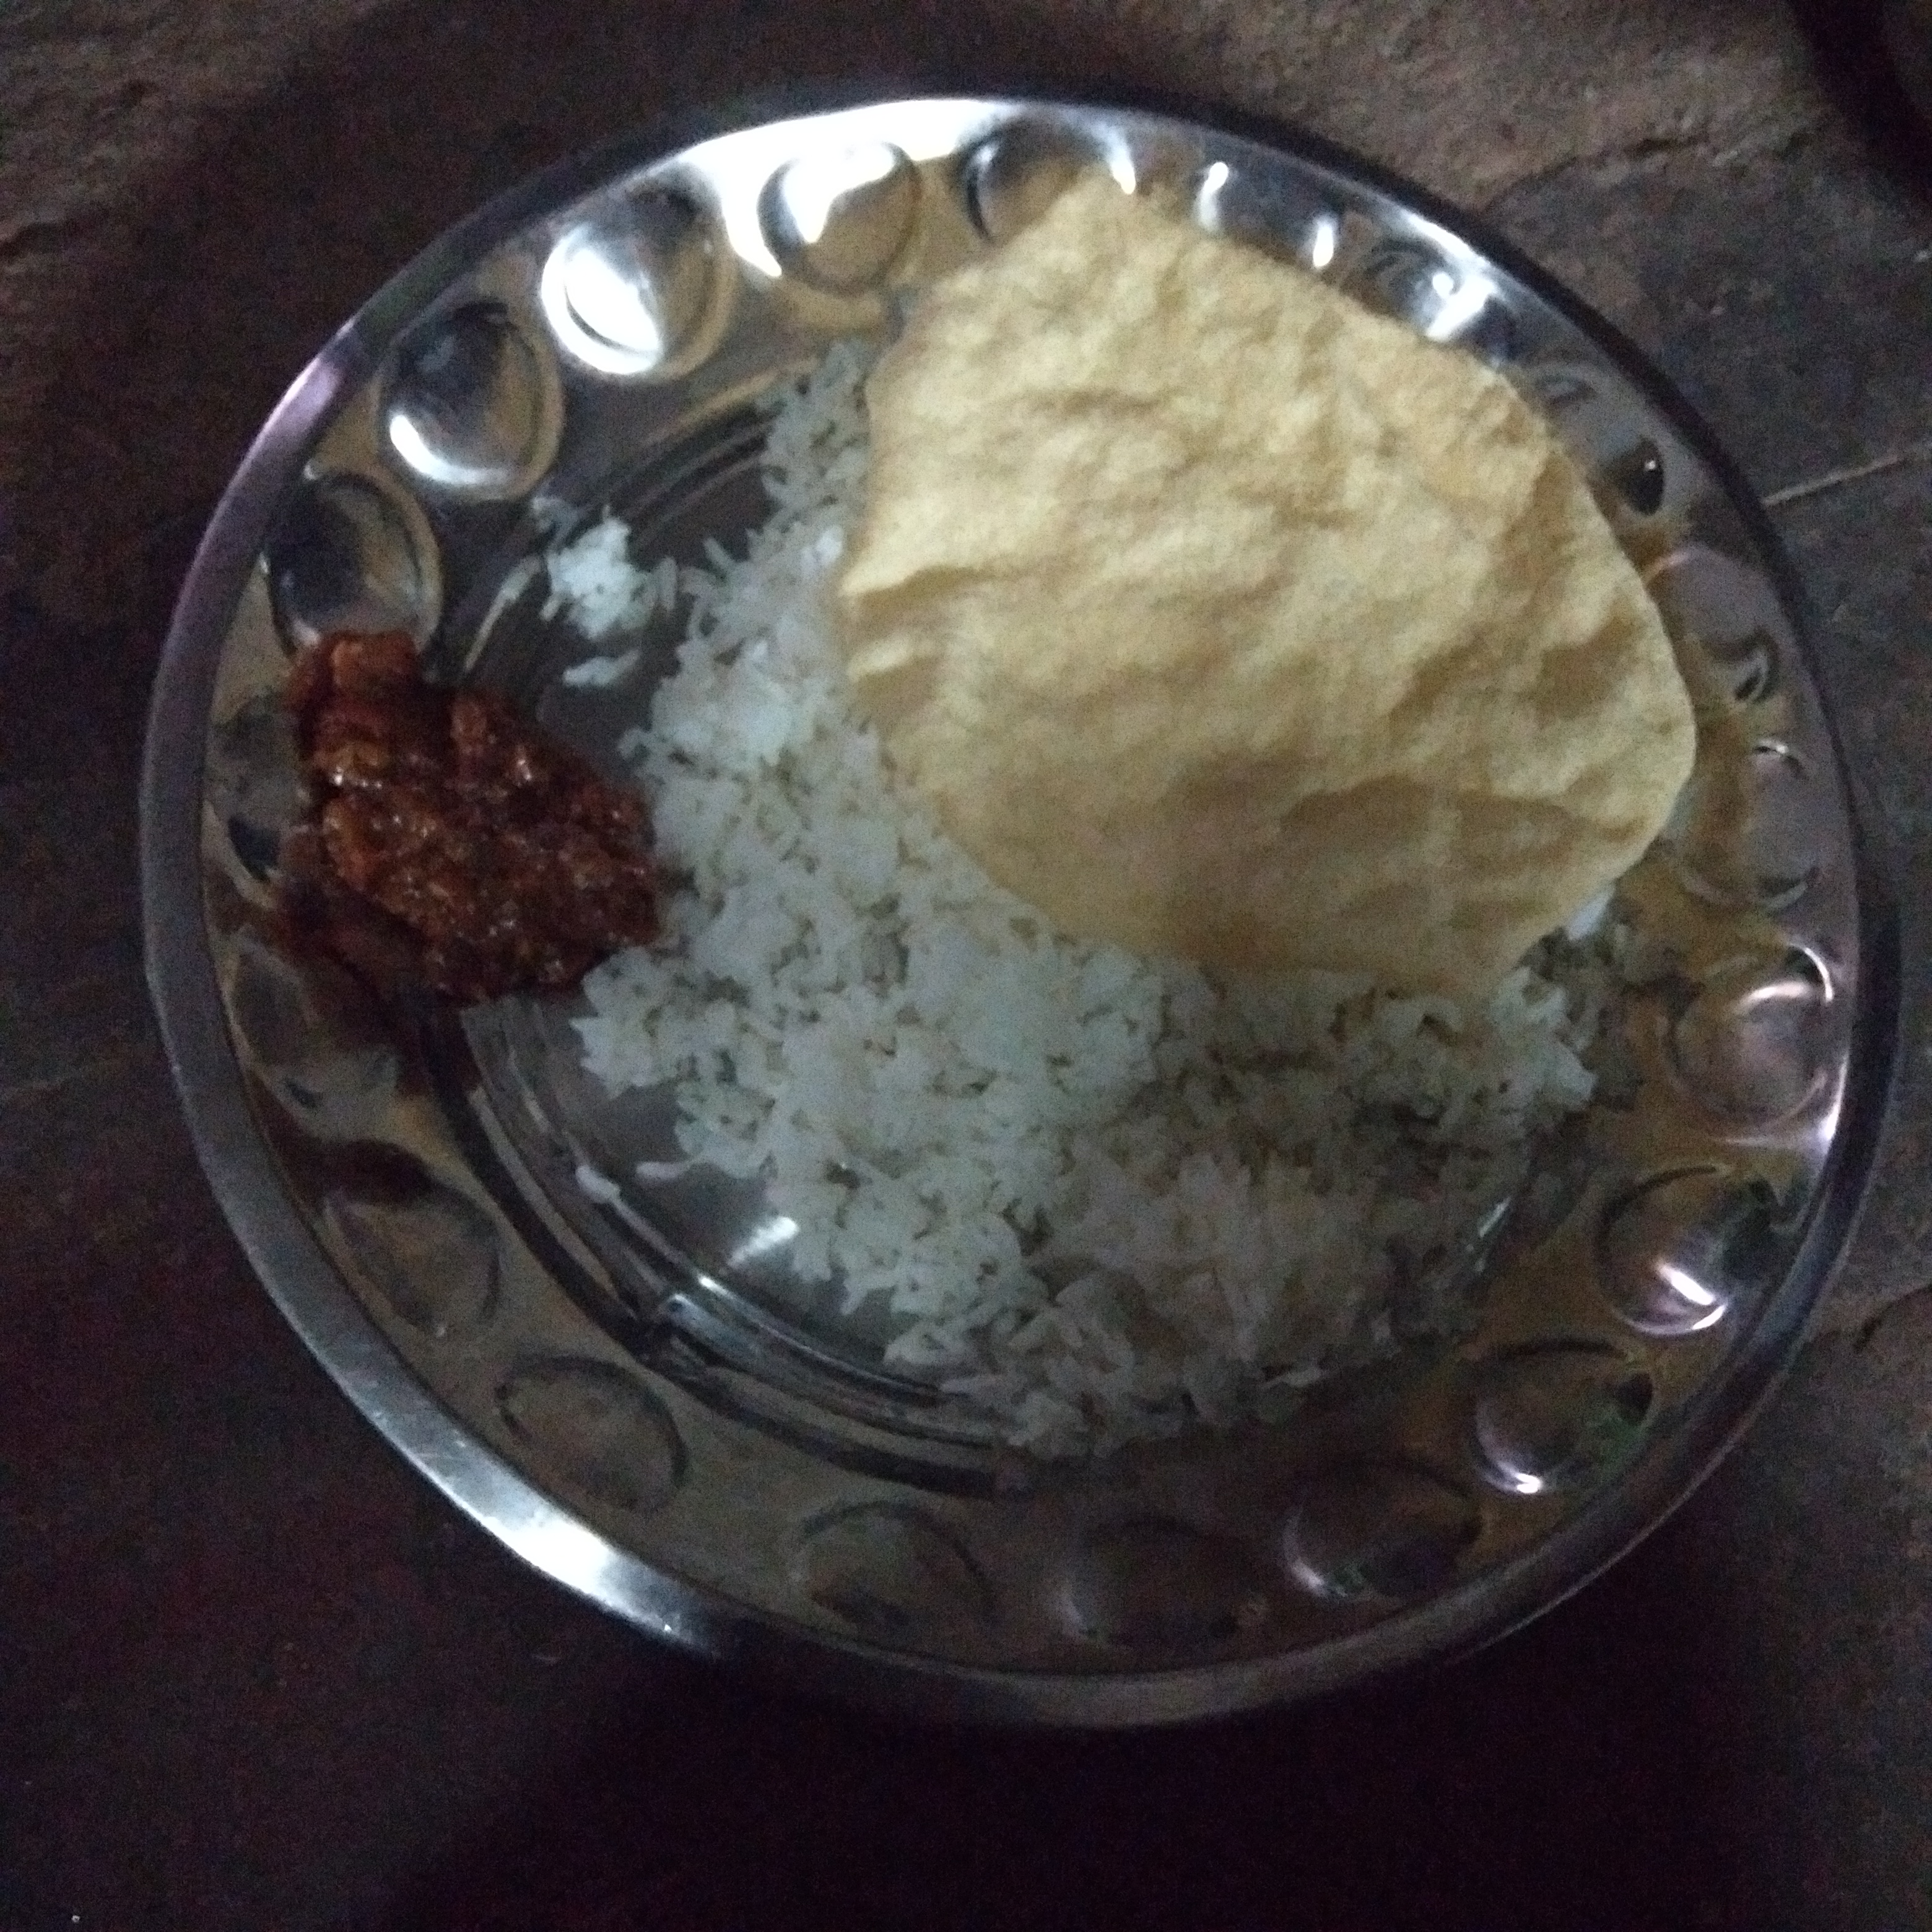food: (301, 163, 1713, 1479)
